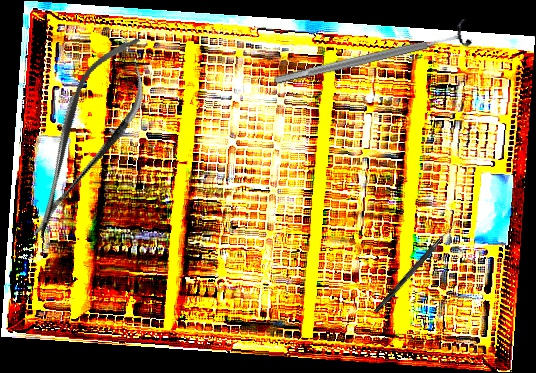Fixation Ring: (270, 17, 474, 95)
Hook Surgical: (373, 217, 460, 315)
Micro Scissor: (4, 23, 169, 251)
